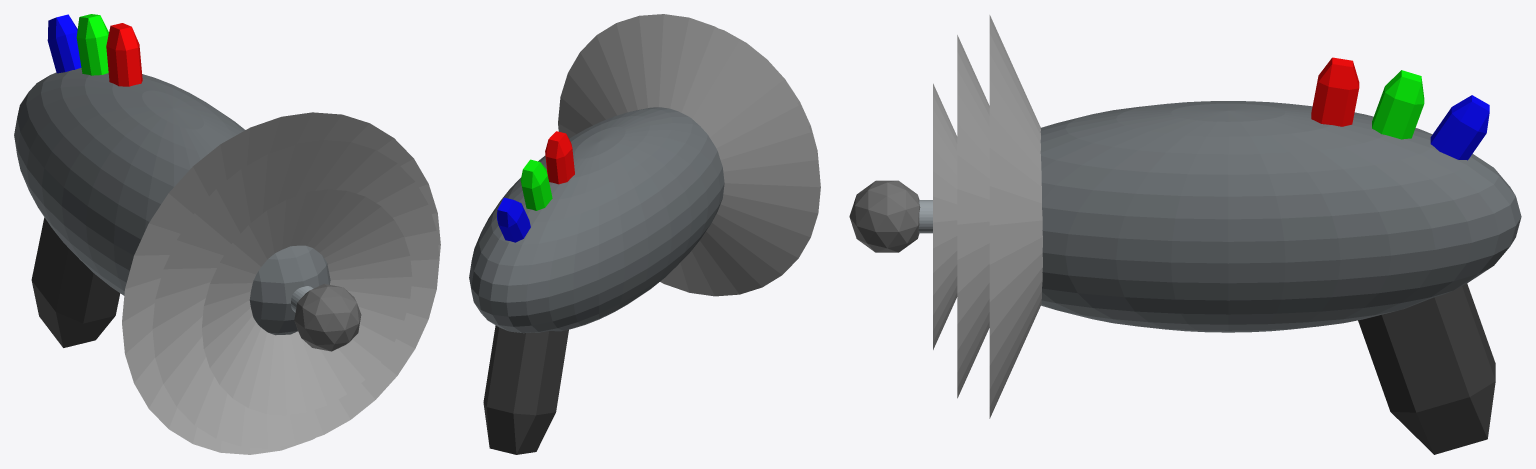
File: CyberBlasterWIP.fbx
3 views of the same model, side by side, from view 1: azimuth 30°, elevation 25°; view 2: azimuth 150°, elevation 25°; view 3: azimuth 270°, elevation 25° (orthographic). The views are drawn at different scales.
Parts seen in each view (by area): view 1: Cone; view 2: Cone; view 3: Cone.
Part boxes in pixels (box(x1,y1,x2,y2)): Cone: box(14, 14, 440, 454); Cone: box(469, 14, 820, 454); Cone: box(849, 15, 1521, 454).
Size of the model in its own units: 35.69 by 40.12 by 59.11.
